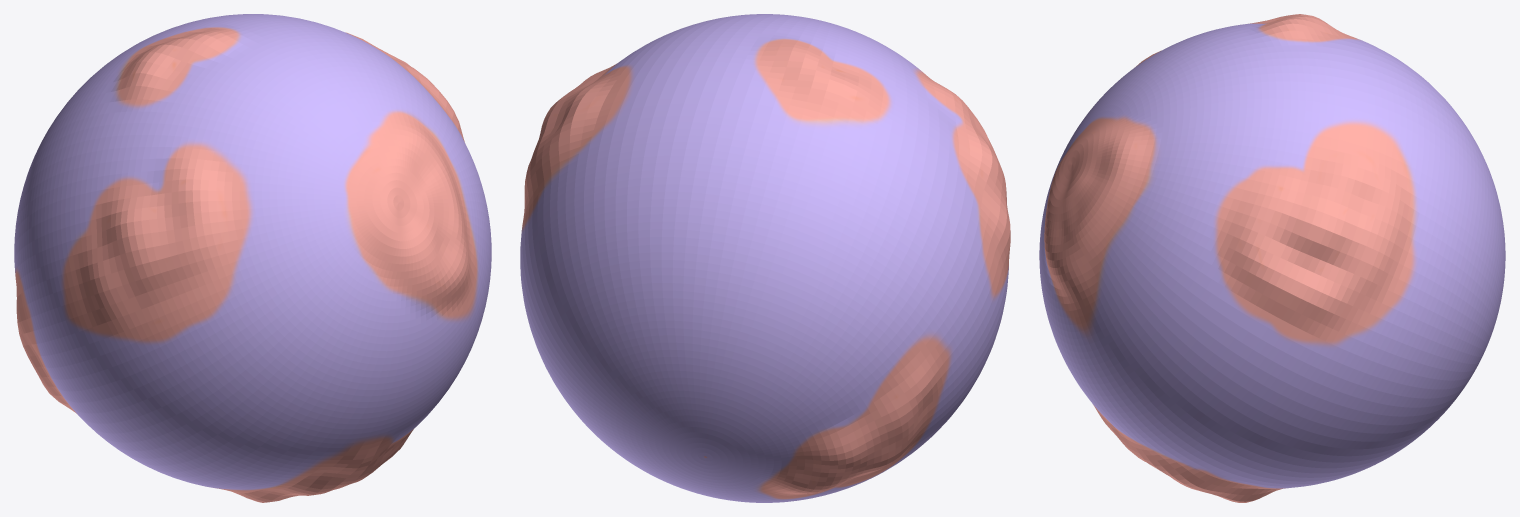
Rendered from planet.gltf.
3 renders of one model, left to right at view 1: azimuth 30°, elevation 25°; view 2: azimuth 150°, elevation 25°; view 3: azimuth 270°, elevation 25°, orthographic. The views are drawn at different scales.
Visible parts, largest first — view 1: Sphere; view 2: Sphere; view 3: Sphere.
Boxes of the visible parts, x1=… form: Sphere: x1=14, y1=14, x2=491, y2=502; Sphere: x1=520, y1=14, x2=1010, y2=502; Sphere: x1=1039, y1=14, x2=1505, y2=502.
Bounding box in the file's own units: 39.98 × 40.95 × 39.99.
Materials: 1 (1 with a texture image).
